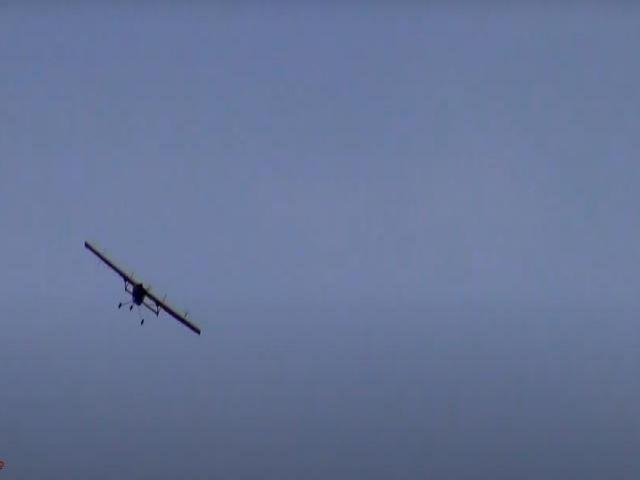iha: (83, 241, 201, 335)
